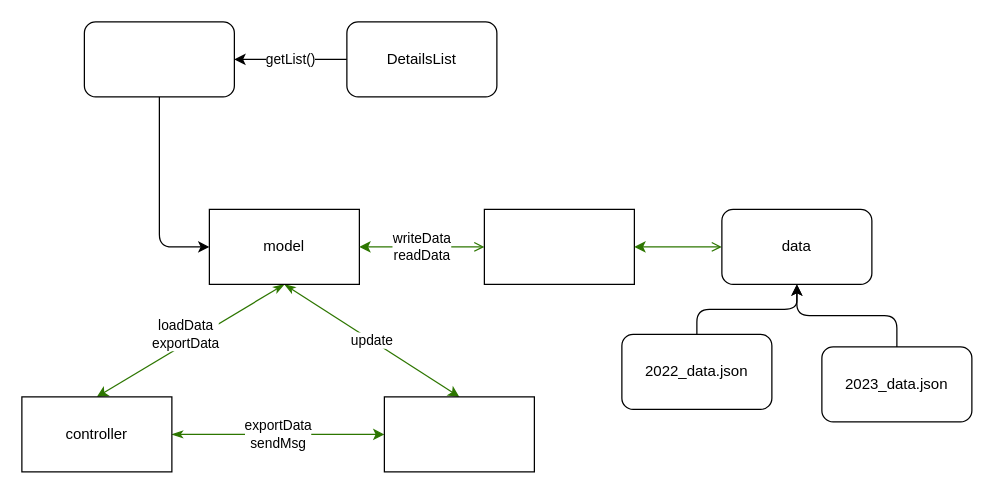
Image size: 994x494. Some labels were removed from this diagram. The centre of each missing label's shape, as x and y in pixels:
"database" belongs at pixel 558 246.
"HackerNewsList" belongs at pixel 158 59.
"view" belongs at pixel 458 434.
